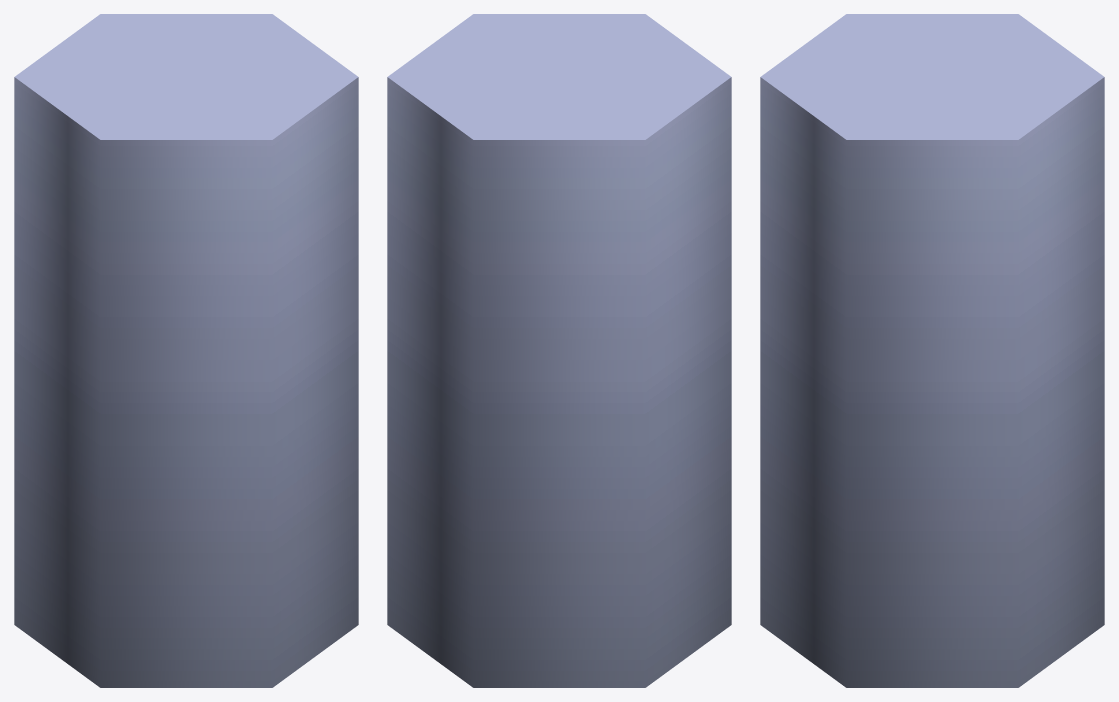
The model's file is station.pipe.glb.
The picture shows the model from 3 angles, left to right: view 1: azimuth 30°, elevation 25°; view 2: azimuth 150°, elevation 25°; view 3: azimuth 270°, elevation 25°; orthographic projection.
Visible parts, largest first — view 1: pipe; view 2: pipe; view 3: pipe.
Part boxes in pixels (x1,y1,x2,y2): pipe: [14, 14, 358, 687]; pipe: [387, 14, 731, 687]; pipe: [760, 14, 1104, 687].
Bounding box in the file's own units: 0.4256 × 0.8636 × 0.4915.
1 material, 1 textured.
